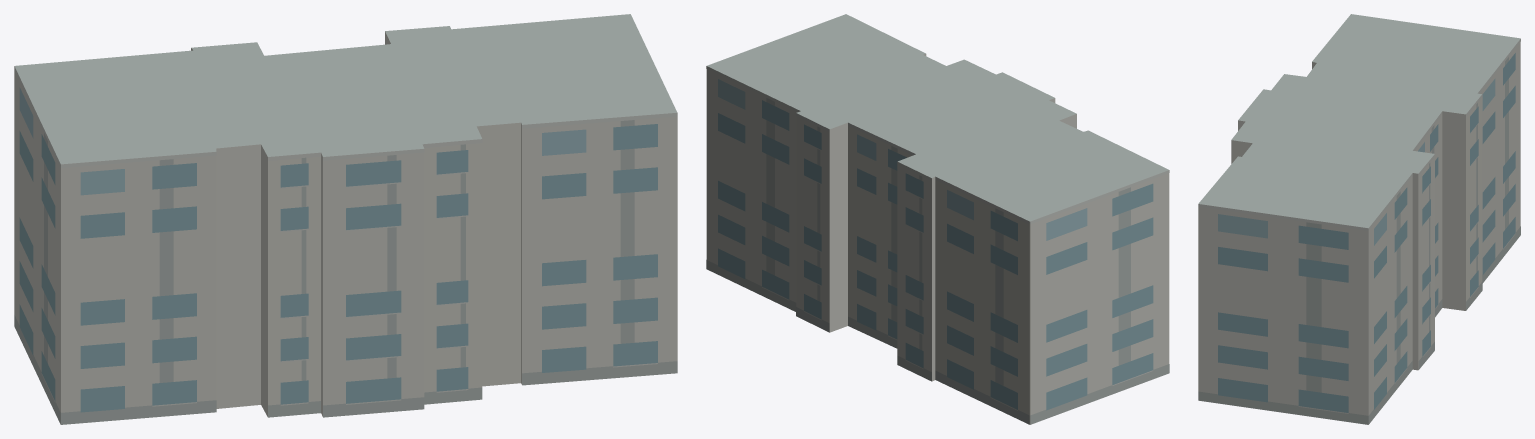
Rendered from survey-upis-32994011.glb.
The picture shows the model from 3 angles, left to right: view 1: azimuth 30°, elevation 25°; view 2: azimuth 150°, elevation 25°; view 3: azimuth 270°, elevation 25°; orthographic projection. The views are drawn at different scales.
Visible parts, largest first — view 1: survey-upis-32994011.tmp; view 2: survey-upis-32994011.tmp; view 3: survey-upis-32994011.tmp.
Boxes of the visible parts, x1=… form: survey-upis-32994011.tmp: x1=14, y1=14, x2=677, y2=424; survey-upis-32994011.tmp: x1=706, y1=14, x2=1169, y2=424; survey-upis-32994011.tmp: x1=1198, y1=14, x2=1520, y2=424.
Size of the model in its own units: 38.09 by 16.3 by 24.24.
